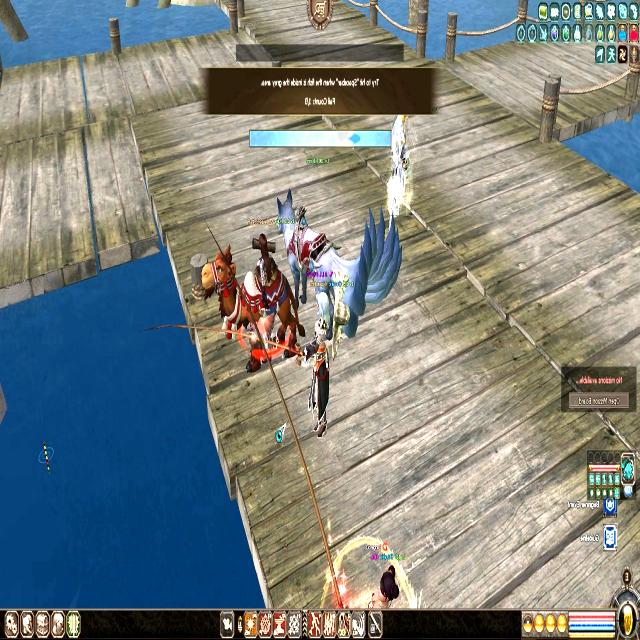fishes: (350, 132, 361, 146)
